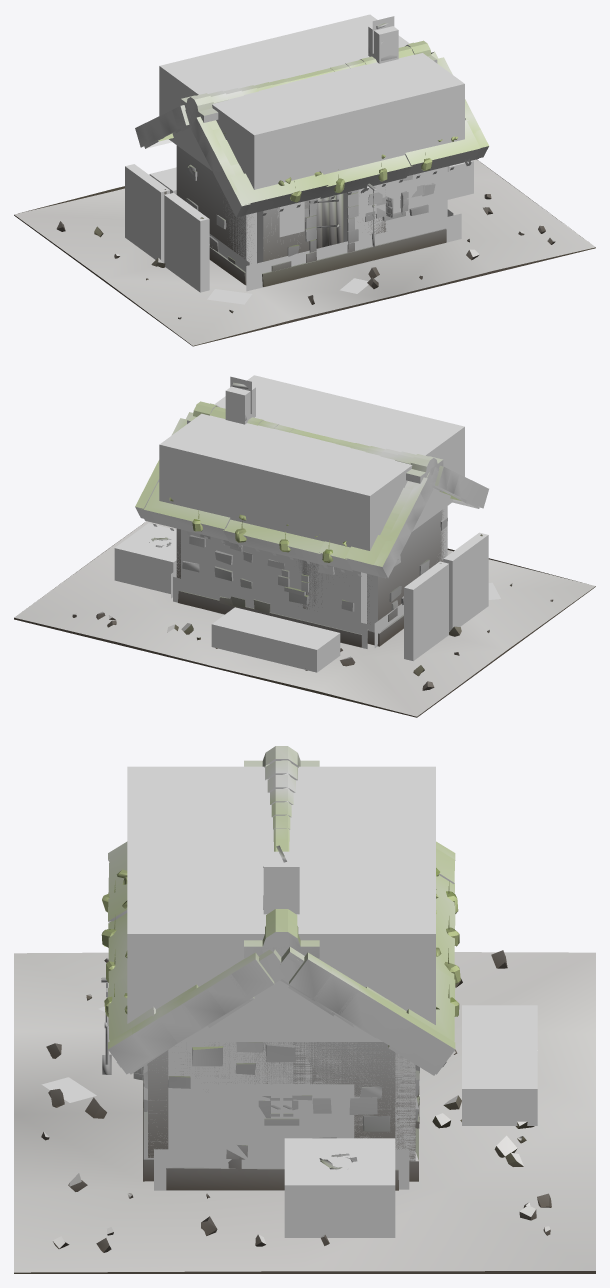
File: bld_cottage_ness_shared_lite.glb
3 renders of one model, top to bottom at view 1: azimuth 30°, elevation 25°; view 2: azimuth 150°, elevation 25°; view 3: azimuth 270°, elevation 25°, orthographic. The views are drawn at different scales.
Visible parts, largest first — view 1: col_roof, ground_mud, roof_turf_thatch, lite_merge_07, decals_ness, col_net_0, col_net_1, col_wall_S_2, lite_merge_08, lite_merge_04, door_main_leaf, col_wall_W_0 (+3 smaller); view 2: col_roof, ground_mud, roof_turf_thatch, col_wall_N_0, col_boat, lite_merge_07, lite_merge_02, col_net_1, col_peat, decals_ness, col_net_0, col_chimney (+2 smaller); view 3: ground_mud, col_roof, roof_turf_thatch, decals_ness, col_peat, col_boat, lite_merge_02, lite_merge_04, col_wall_E_0, lite_merge_05, col_chimney, col_wall_N_0 (+1 smaller).
Part boxes in pixels (left/top/right/bottom): col_roof: left=159, top=14, right=464, bottom=189; ground_mud: left=14, top=159, right=595, bottom=346; roof_turf_thatch: left=135, top=40, right=488, bottom=217; lite_merge_07: left=176, top=145, right=446, bottom=286; decals_ness: left=207, top=16, right=461, bottom=304; col_net_0: left=164, top=193, right=209, bottom=292; col_net_1: left=125, top=164, right=169, bottom=262; col_wall_S_2: left=343, top=167, right=443, bottom=242; lite_merge_08: left=305, top=189, right=408, bottom=262; lite_merge_04: left=263, top=187, right=386, bottom=261; door_main_leaf: left=315, top=193, right=343, bottom=248; col_wall_W_0: left=223, top=200, right=256, bottom=264; col_roof: left=159, top=375, right=464, bottom=550; ground_mud: left=14, top=521, right=595, bottom=717; roof_turf_thatch: left=135, top=401, right=488, bottom=578; col_wall_N_0: left=181, top=529, right=366, bottom=623; col_boat: left=211, top=607, right=340, bottom=672; lite_merge_07: left=192, top=509, right=447, bottom=646; lite_merge_02: left=178, top=382, right=368, bottom=647; col_net_1: left=404, top=561, right=448, bottom=660; col_peat: left=114, top=523, right=176, bottom=593; decals_ness: left=171, top=376, right=500, bottom=648; col_net_0: left=443, top=532, right=488, bottom=631; col_chimney: left=225, top=386, right=255, bottom=424; ground_mud: left=14, top=952, right=595, bottom=1273; col_roof: left=127, top=766, right=435, bottom=1041; roof_turf_thatch: left=108, top=746, right=455, bottom=1075; decals_ness: left=41, top=1006, right=409, bottom=1190; col_peat: left=284, top=1138, right=395, bottom=1237; col_boat: left=462, top=1005, right=537, bottom=1125; lite_merge_02: left=166, top=845, right=419, bottom=1190; lite_merge_04: left=148, top=1042, right=395, bottom=1157; col_wall_E_0: left=168, top=1042, right=394, bottom=1149; lite_merge_05: left=41, top=950, right=551, bottom=1252; col_chimney: left=263, top=851, right=299, bottom=914; col_wall_N_0: left=395, top=1052, right=415, bottom=1161.
Bounding box in the file's own units: 13 × 6.26 × 10.
